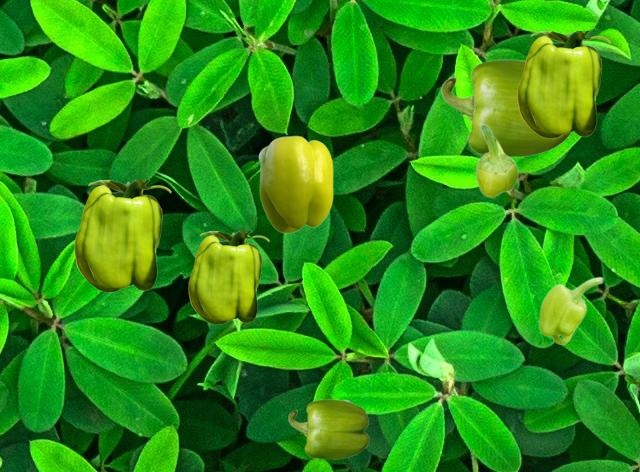bell_pepper: (441, 59, 571, 156), (74, 180, 170, 291), (517, 31, 609, 137), (188, 231, 268, 323), (258, 135, 332, 232), (288, 399, 368, 458), (538, 276, 603, 344), (475, 124, 518, 197)
